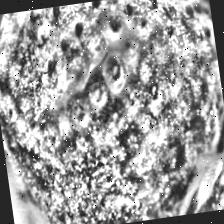Powdery Mildew Fruit: (0, 0, 224, 224), (163, 158, 224, 217)
